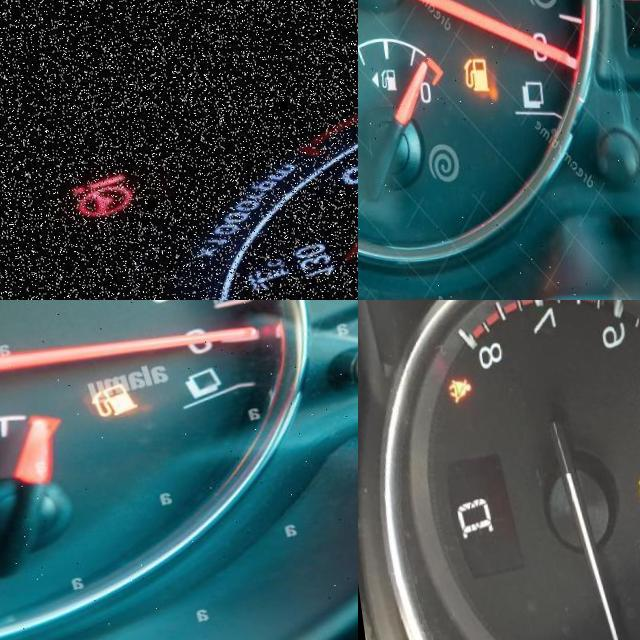Electronic Power Steering: (36, 165, 151, 253)
Seat Belt: (436, 378, 466, 403)
